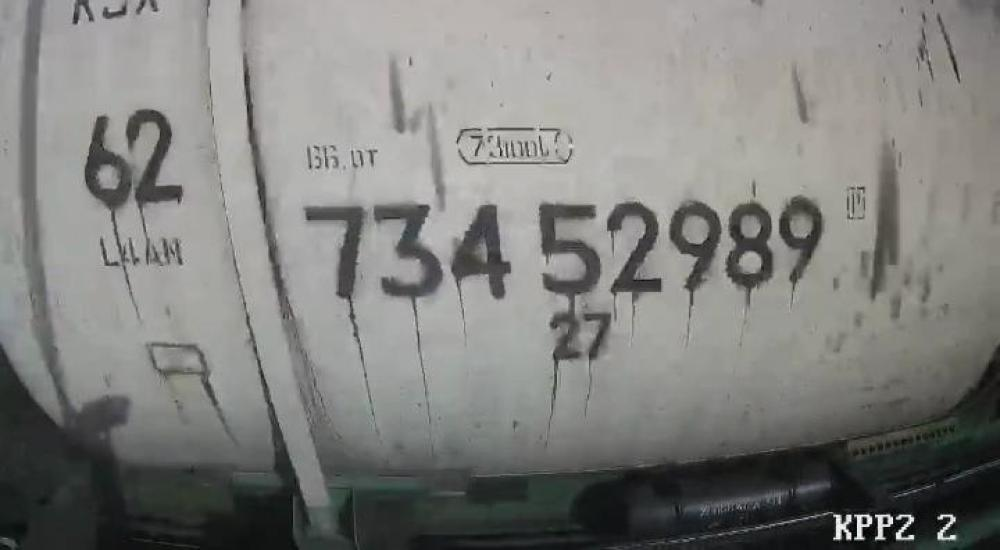Wagon-number: (300, 193, 828, 304)
